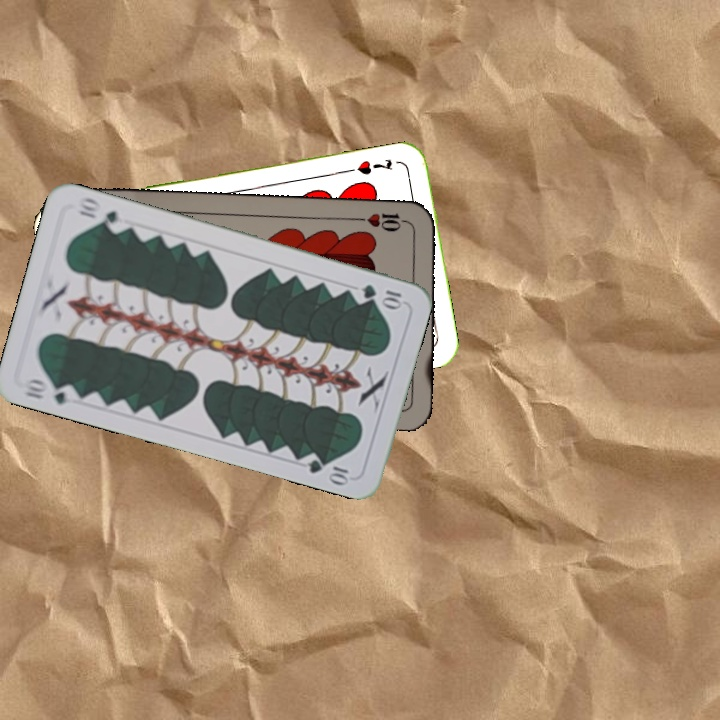G10: (19, 374, 80, 407), (358, 280, 406, 310)
H10: (354, 209, 413, 235)
H7: (353, 154, 395, 178)
